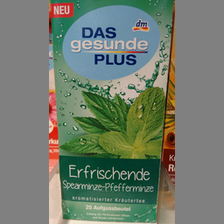tea: (50, 1, 174, 224)
